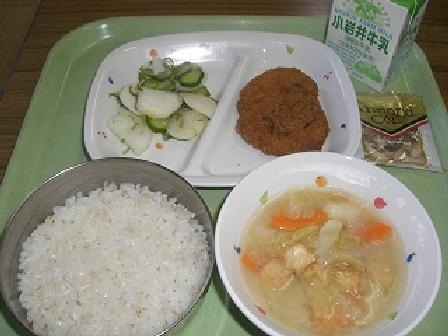Milk: (315, 0, 430, 78)
Rice: (6, 160, 211, 331)
Soups: (223, 154, 433, 328)
cutlet: (220, 63, 346, 158)
salad fresh: (103, 52, 213, 155)
